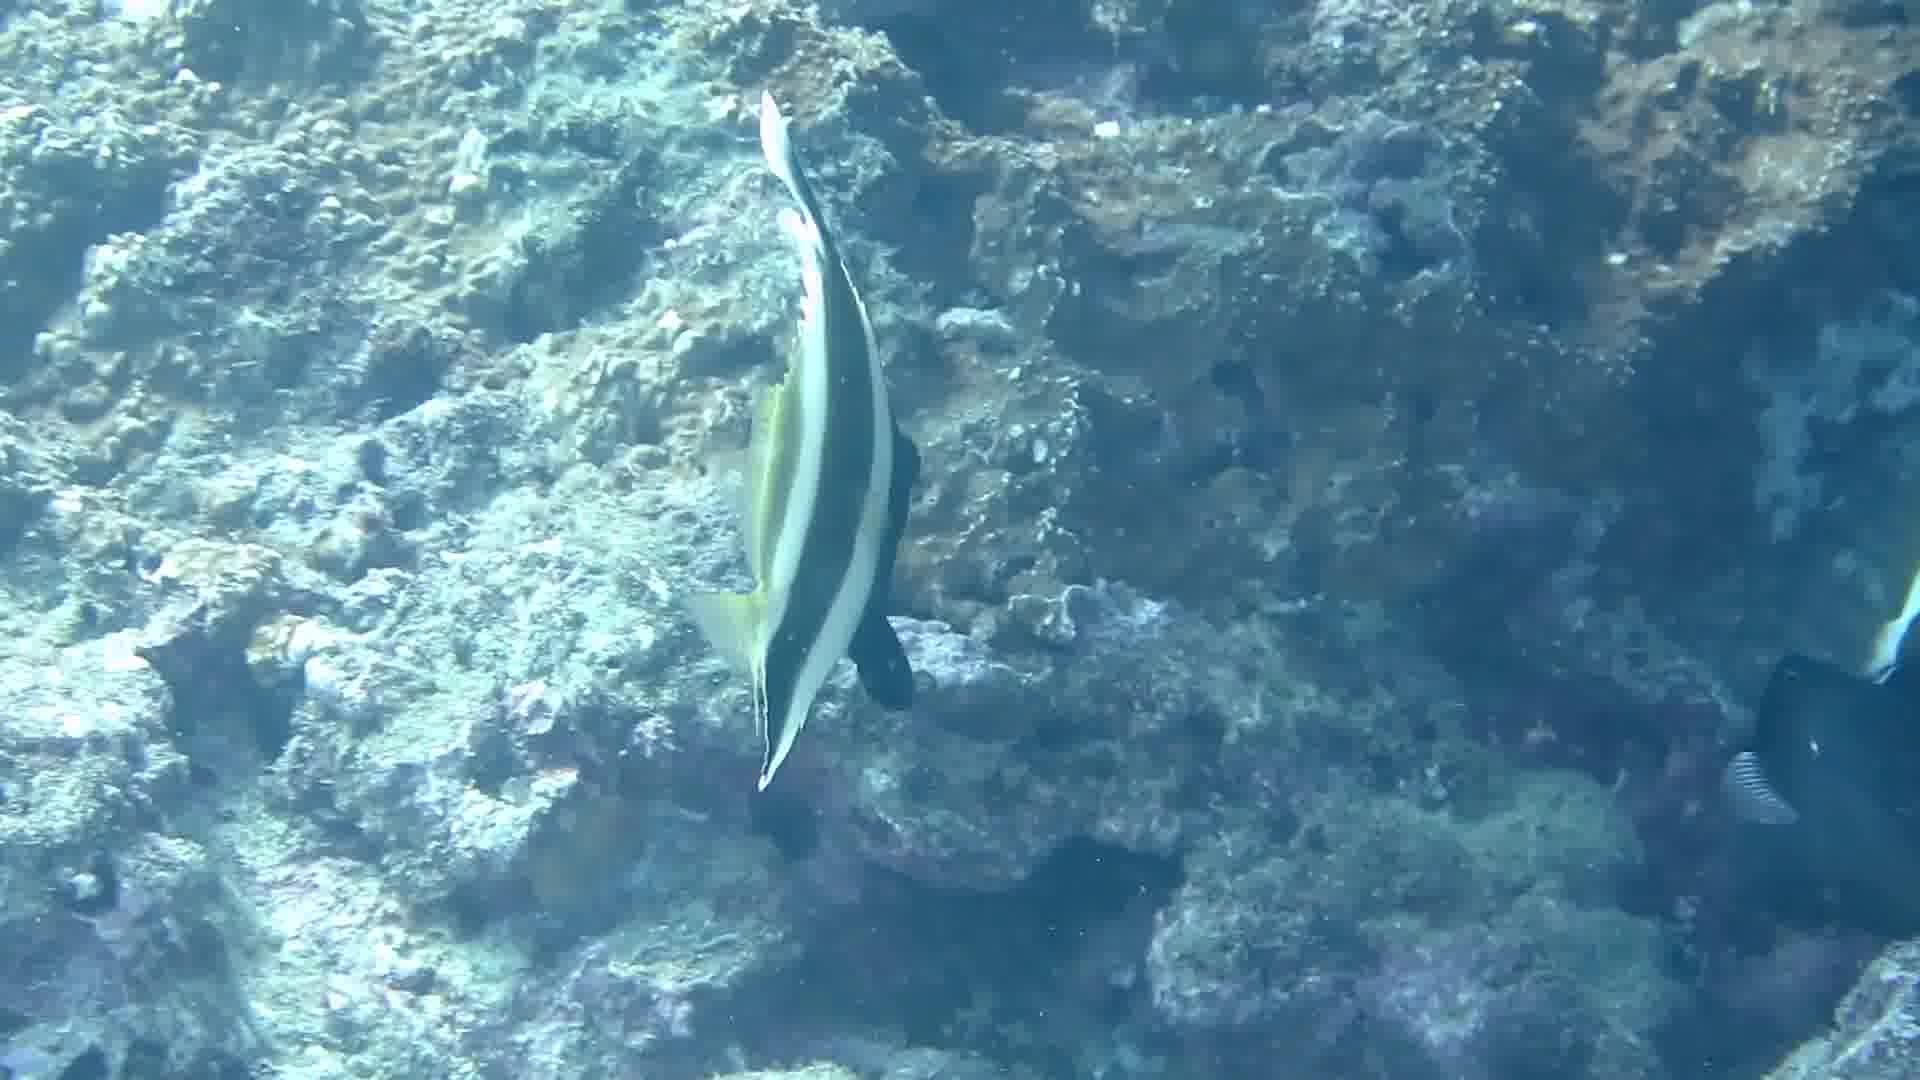Heniochus chrysostomus: (518, 63, 1060, 831)
